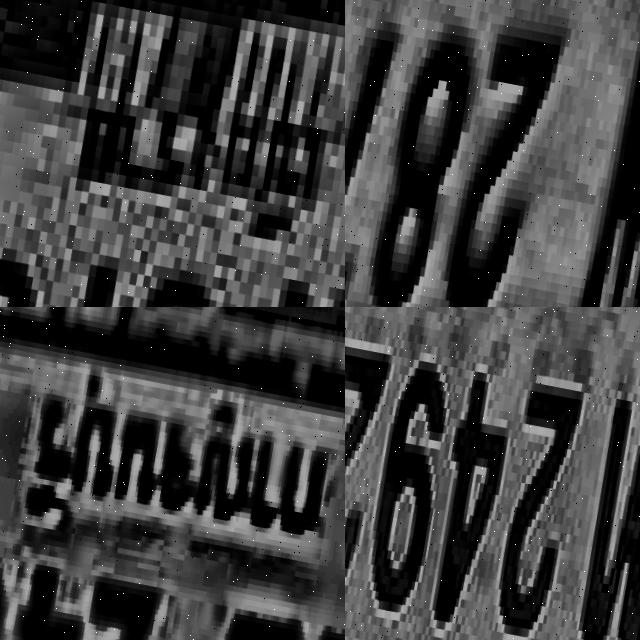license-plate: (0, 307, 345, 640), (0, 0, 345, 307), (345, 307, 640, 640), (345, 0, 640, 307)
